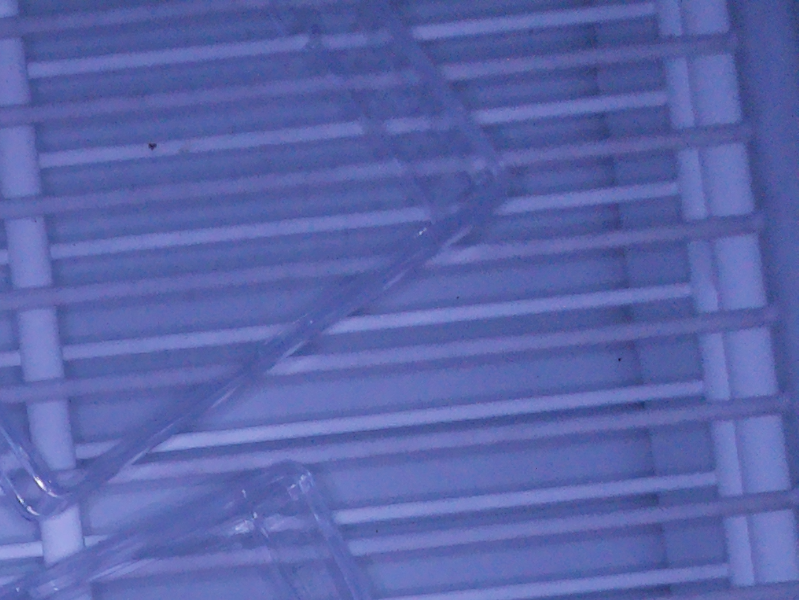plate: (1, 1, 516, 524), (1, 456, 375, 600)
